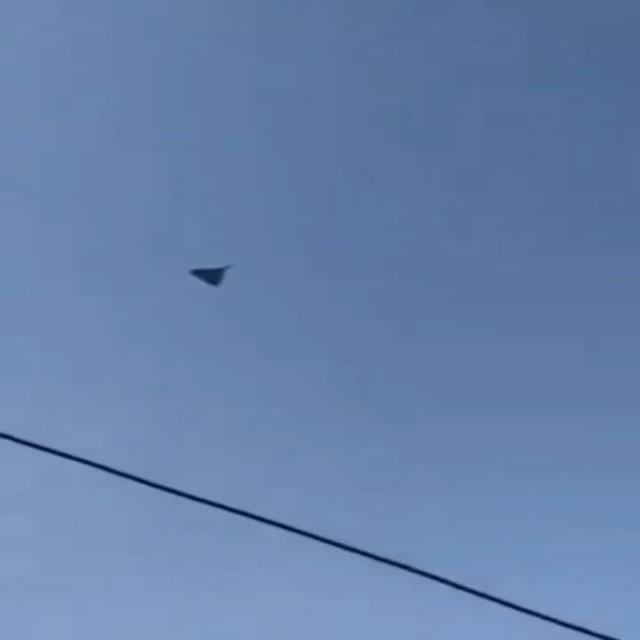drone: (182, 254, 242, 294)
